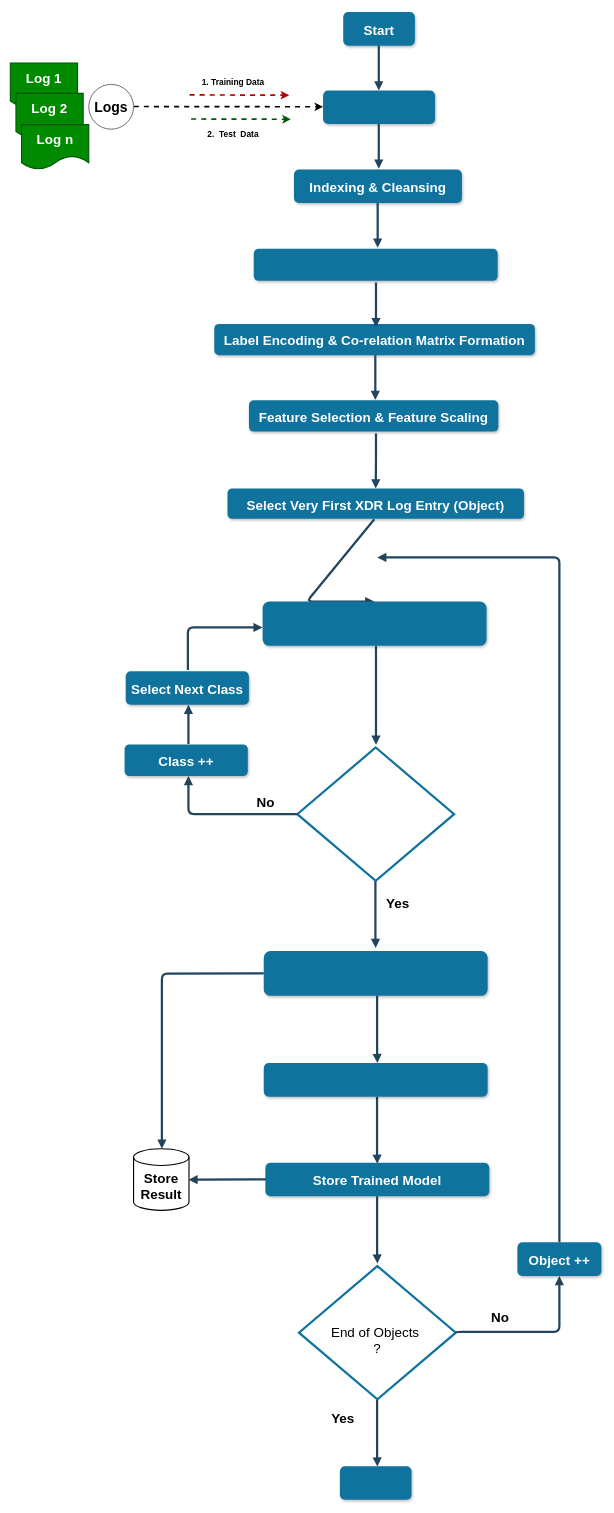
This 614x1513 diagram has some shape labels left out. The shapes that lost their labels are listed below. From the top down, each one's centre as x and y in pixels, then its label:
At pixel 379 108: "Input Data".
At pixel 376 265: "Define Parameters and Classes".
At pixel 375 624: "Calculate Distance (K) between Object & Classes".
At pixel 375 814: "Is it the K-Nearest Value ?".
At pixel 376 974: "Store the K-Nearest Neighbor Distance (K)".
At pixel 376 1080: "Evaluate Model Training".
At pixel 376 1483: "END".
